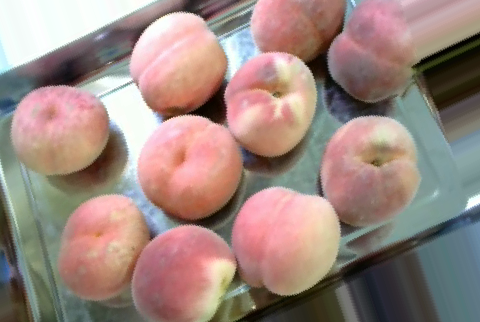Peach: (231, 186, 340, 296), (318, 114, 418, 227), (137, 115, 242, 219), (131, 220, 237, 321), (54, 193, 150, 300), (224, 48, 316, 158), (130, 11, 226, 113), (10, 84, 112, 175), (325, 1, 415, 102), (252, 0, 343, 59)
